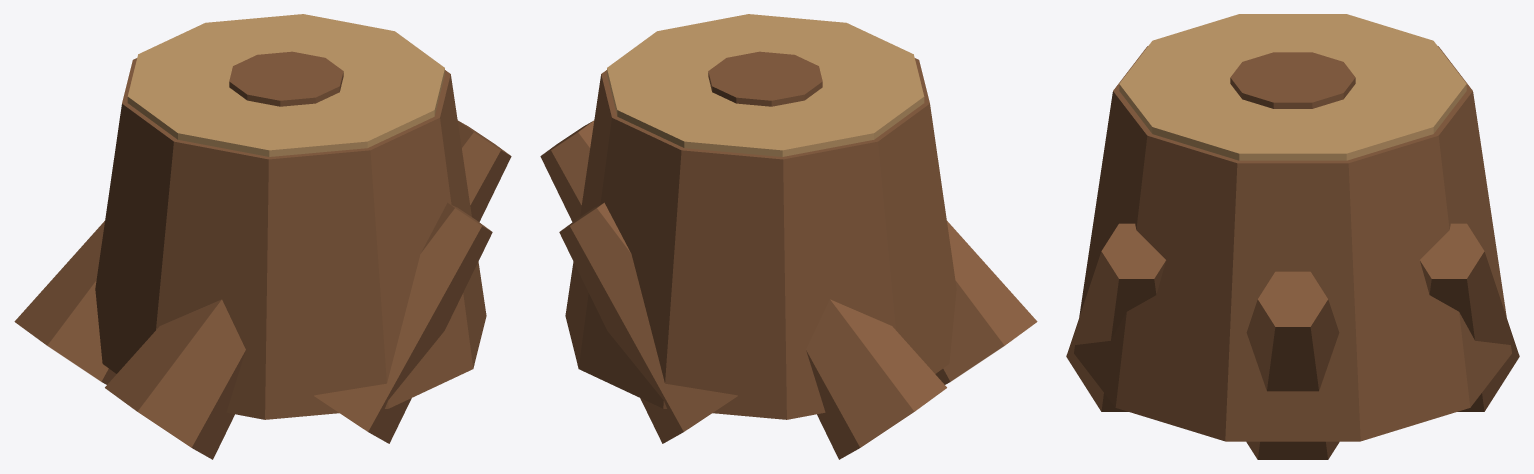
Rendered from cedar_stump.glb.
3 views of the same model, side by side, from view 1: azimuth 30°, elevation 25°; view 2: azimuth 150°, elevation 25°; view 3: azimuth 270°, elevation 25° (orthographic). The views are drawn at different scales.
Visible parts, largest first — view 1: Cedar stump, Cut face, Root.003, Root.004, Root.002, Heartwood, Root; view 2: Cedar stump, Cut face, Root.002, Root.001, Root.003, Heartwood, Root; view 3: Cedar stump, Cut face, Root, Root.001, Root.004, Heartwood.
Boxes of the visible parts, x1,y1,x2,y2 form: Cedar stump: (95,58,486,419); Cut face: (127,14,444,156); Root.003: (105,299,245,459); Root.004: (314,202,492,443); Root.002: (14,221,116,384); Heartwood: (229,51,343,106); Root: (457,120,511,221); Cedar stump: (565,58,956,419); Cut face: (607,14,924,156); Root.002: (806,299,946,459); Root.001: (559,202,737,443); Root.003: (935,221,1037,384); Heartwood: (708,51,822,106); Root: (540,120,594,221); Cedar stump: (1074,46,1511,441); Cut face: (1119,14,1466,160); Root: (1246,271,1339,459); Root.001: (1420,223,1519,411); Root.004: (1066,223,1165,411); Heartwood: (1230,52,1355,108).
Size of the model in its own units: 0.6755 by 0.4616 by 0.5794.
